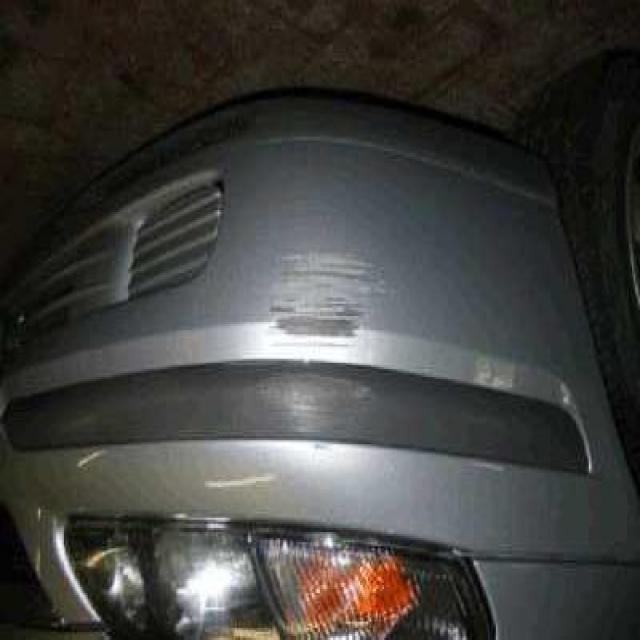scratch: (262, 240, 384, 354), (250, 371, 388, 438)
